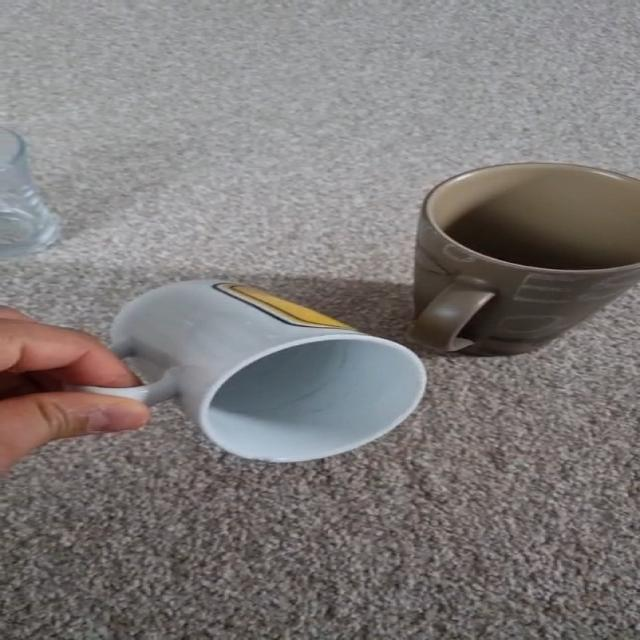Cup: (80, 280, 426, 462), (412, 163, 639, 355), (0, 125, 60, 261)
